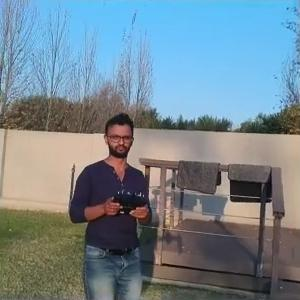follow: (63, 109, 153, 298)
